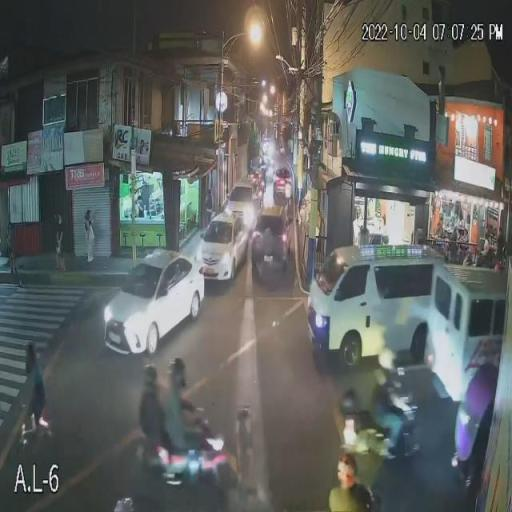helmet: (166, 359, 189, 395), (335, 457, 356, 484), (143, 367, 156, 396), (380, 349, 395, 373)
motorcycle: (135, 433, 237, 490), (336, 404, 422, 460)
rider: (163, 358, 200, 456), (136, 364, 162, 452), (376, 354, 399, 444), (331, 462, 366, 512)
